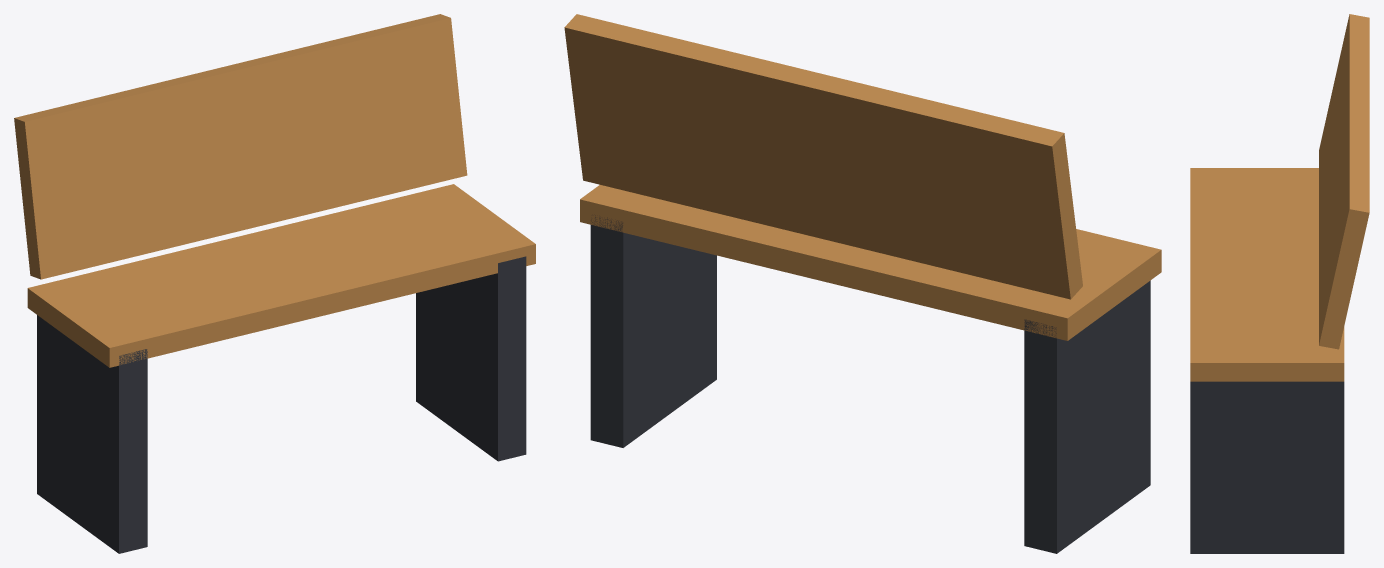
The model's file is garden2_garden_bench.glb.
The picture shows the model from 3 angles, left to right: view 1: azimuth 30°, elevation 25°; view 2: azimuth 150°, elevation 25°; view 3: azimuth 270°, elevation 25°; orthographic projection. The views are drawn at different scales.
Parts seen in each view (by area): view 1: garden_bench; view 2: garden_bench; view 3: garden_bench.
Boxes of the visible parts, left/top/right/bottom form: garden_bench: left=14, top=14, right=535, bottom=553; garden_bench: left=564, top=14, right=1161, bottom=553; garden_bench: left=1190, top=14, right=1369, bottom=553.
Bounding box in the file's own units: 0.9 × 0.751 × 0.3494.
